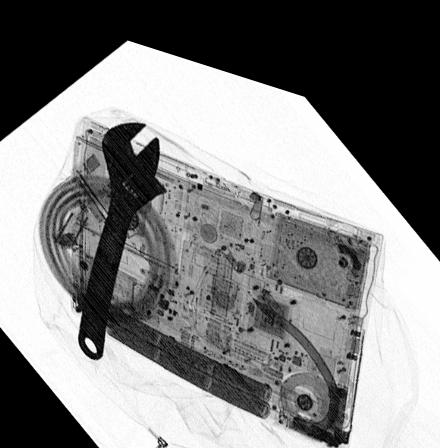Wrench: (76, 109, 169, 354)
